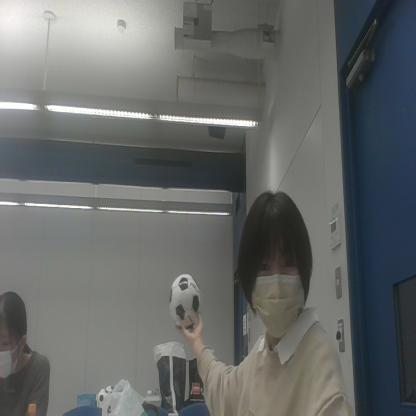ball: (172, 275, 200, 331)
